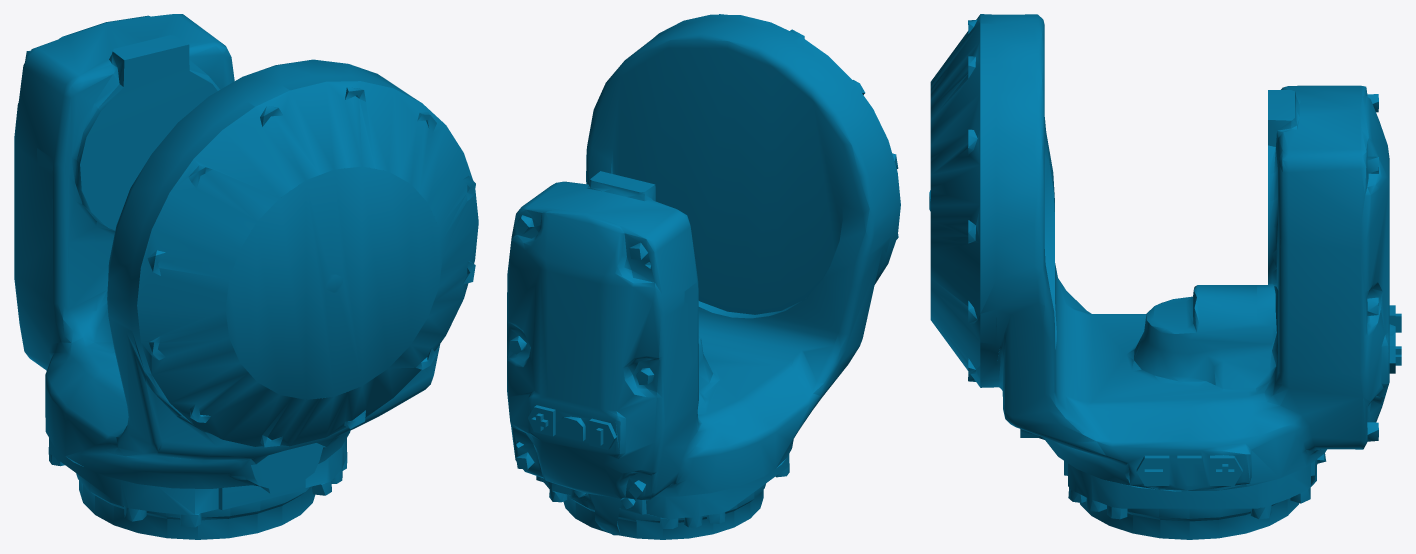
The picture shows the model from 3 angles, left to right: view 1: azimuth 30°, elevation 25°; view 2: azimuth 150°, elevation 25°; view 3: azimuth 270°, elevation 25°; orthographic projection. The views are drawn at different scales.
Parts seen in each view (by area): view 1: mesh_shell_11__LOD_0_; view 2: mesh_shell_11__LOD_0_; view 3: mesh_shell_11__LOD_0_.
Boxes of the visible parts, x1=… form: mesh_shell_11__LOD_0_: x1=14, y1=14, x2=478, y2=539; mesh_shell_11__LOD_0_: x1=507, y1=14, x2=900, y2=539; mesh_shell_11__LOD_0_: x1=929, y1=14, x2=1401, y2=539.
Bounding box in the file's own units: 0.184 × 0.2316 × 0.25.
